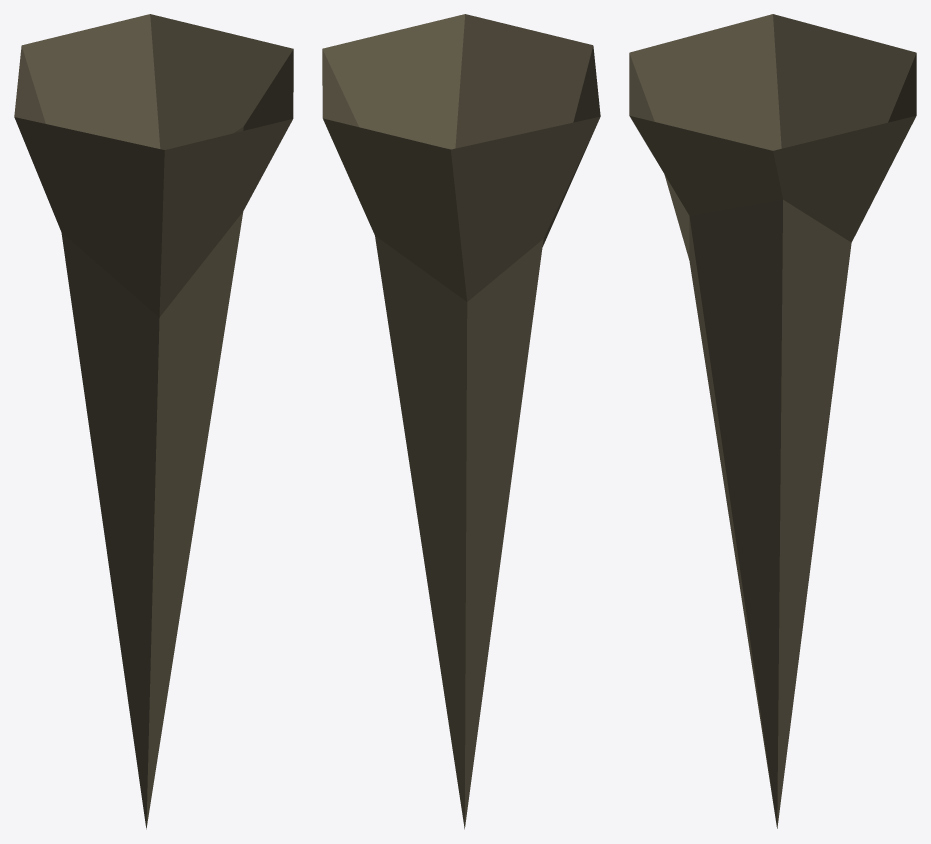
The model's file is Stalacmite-B03.fbx.
3 renders of one model, left to right at view 1: azimuth 30°, elevation 25°; view 2: azimuth 150°, elevation 25°; view 3: azimuth 270°, elevation 25°, orthographic.
Visible parts, largest first — view 1: Stalacmite-B03; view 2: Stalacmite-B03; view 3: Stalacmite-B03.
Part boxes in pixels (x1,y1,x2,y2): Stalacmite-B03: (14,14,293,829); Stalacmite-B03: (322,14,600,829); Stalacmite-B03: (629,14,916,828).
Bounding box in the file's own units: 64.15 × 164 × 56.91.
